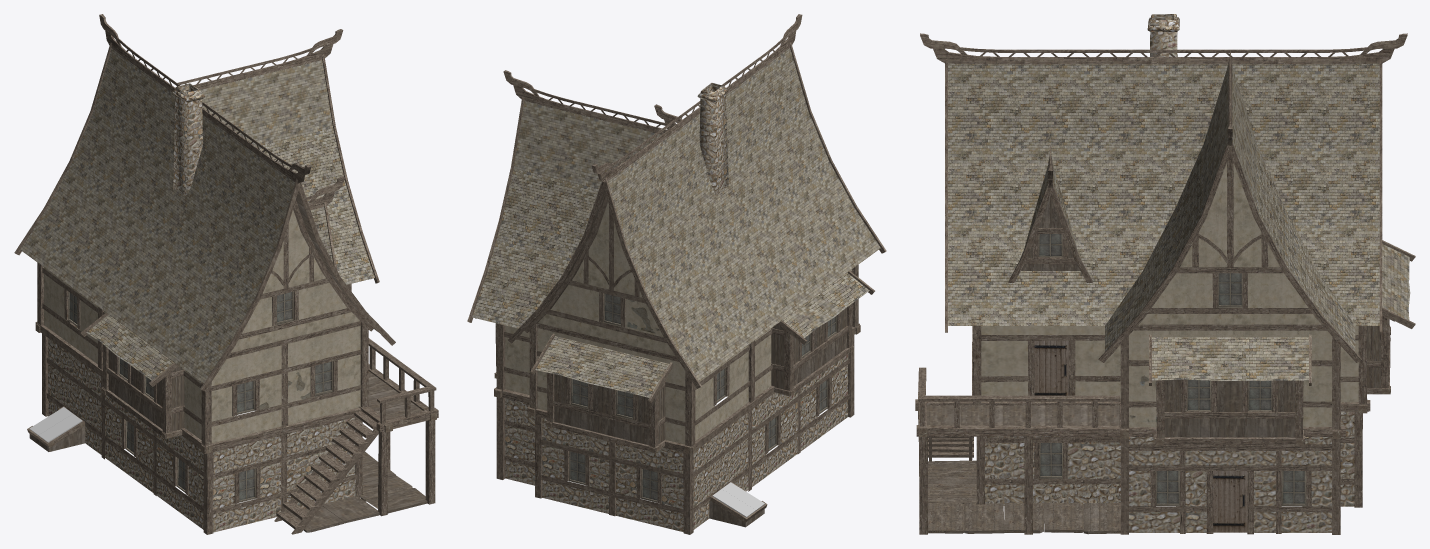
Rendered from mw_type_2_cottage_03_LOD1.FBX.
3 renders of one model, left to right at view 1: azimuth 30°, elevation 25°; view 2: azimuth 150°, elevation 25°; view 3: azimuth 270°, elevation 25°, orthographic. The views are drawn at different scales.
Parts seen in each view (by area): view 1: mw_type_2_cottage_building_03_roof, mw_type_2_cottage_building_03_wood, mw_type_2_cottage_building_03_stone, mw_type_2_cottage_building_03_wall, mw_type_2_cottage_building_03_wood_02, mw_type_2_cottage_building_03, mw_type_2_cottage_building_03_hatch; view 2: mw_type_2_cottage_building_03_roof, mw_type_2_cottage_building_03_wood, mw_type_2_cottage_building_03_stone, mw_type_2_cottage_building_03_wall, mw_type_2_cottage_building_03, mw_type_2_cottage_building_03_hatch; view 3: mw_type_2_cottage_building_03_roof, mw_type_2_cottage_building_03_wood, mw_type_2_cottage_building_03_wall, mw_type_2_cottage_building_03_stone, mw_type_2_cottage_building_03, mw_type_2_cottage_building_03_wood_02.
Part boxes in pixels (left/top/right/bottom): mw_type_2_cottage_building_03_roof: left=20, top=48, right=378, bottom=383; mw_type_2_cottage_building_03_wood: left=14, top=14, right=438, bottom=534; mw_type_2_cottage_building_03_stone: left=48, top=83, right=355, bottom=532; mw_type_2_cottage_building_03_wall: left=44, top=210, right=360, bottom=443; mw_type_2_cottage_building_03_wood_02: left=290, top=452, right=427, bottom=532; mw_type_2_cottage_building_03: left=68, top=291, right=332, bottom=502; mw_type_2_cottage_building_03_hatch: left=29, top=407, right=82, bottom=442; mw_type_2_cottage_building_03_roof: left=472, top=48, right=880, bottom=397; mw_type_2_cottage_building_03_wood: left=467, top=14, right=886, bottom=534; mw_type_2_cottage_building_03_stone: left=505, top=83, right=848, bottom=532; mw_type_2_cottage_building_03_wall: left=505, top=202, right=851, bottom=444; mw_type_2_cottage_building_03: left=569, top=293, right=836, bottom=502; mw_type_2_cottage_building_03_hatch: left=712, top=482, right=764, bottom=517; mw_type_2_cottage_building_03_roof: left=948, top=63, right=1410, bottom=381; mw_type_2_cottage_building_03_wood: left=915, top=33, right=1415, bottom=534; mw_type_2_cottage_building_03_wall: left=981, top=163, right=1358, bottom=427; mw_type_2_cottage_building_03_stone: left=985, top=14, right=1354, bottom=532; mw_type_2_cottage_building_03: left=1034, top=234, right=1306, bottom=532; mw_type_2_cottage_building_03_wood_02: left=928, top=460, right=1120, bottom=534.
Bounding box in the file's own units: 1488 × 1880 × 1949.
